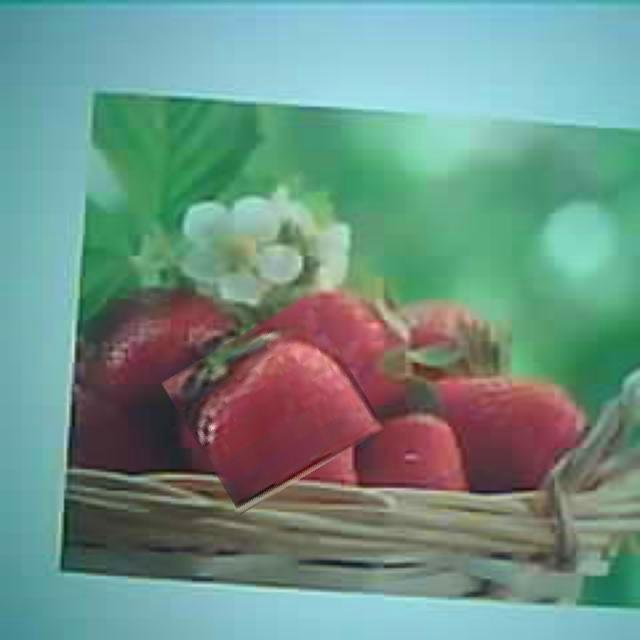strawberry: (176, 312, 372, 498)
